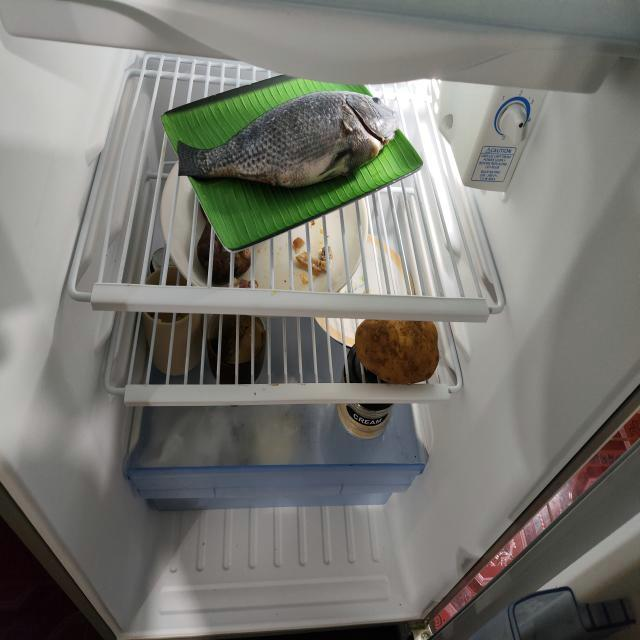fish: (176, 89, 400, 190)
potato: (354, 313, 439, 384)
